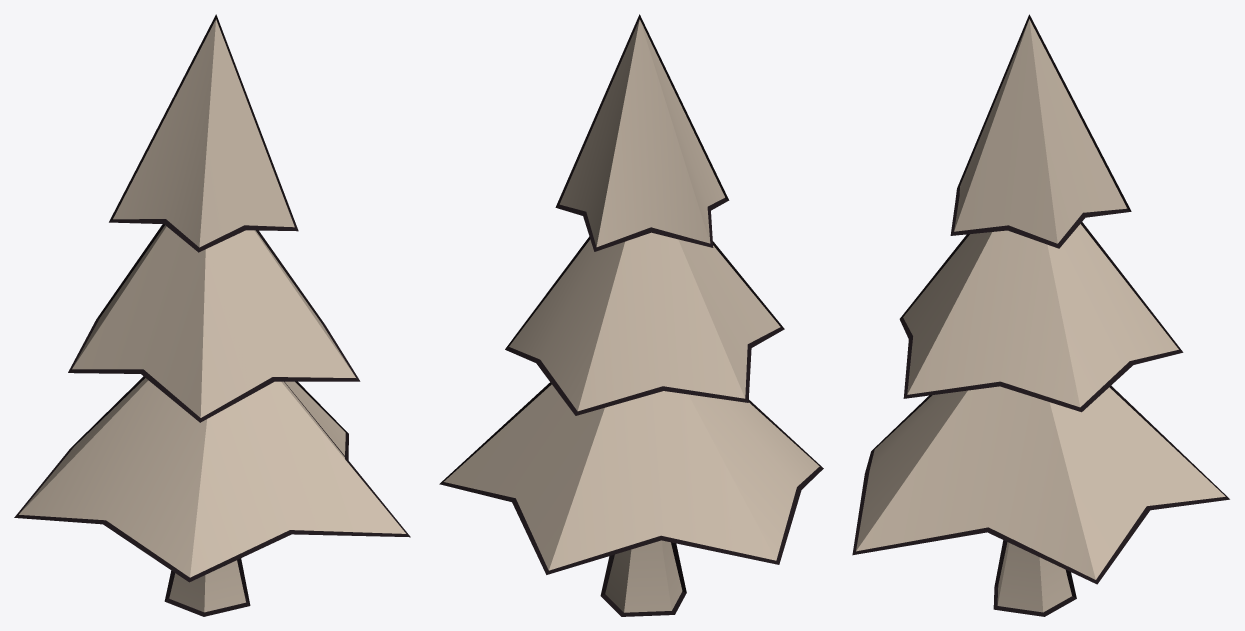
File: SM_Tree_02.fbx
The picture shows the model from 3 angles, left to right: view 1: azimuth 30°, elevation 25°; view 2: azimuth 150°, elevation 25°; view 3: azimuth 270°, elevation 25°; orthographic projection.
Parts seen in each view (by area): view 1: SM_Tree_02; view 2: SM_Tree_02; view 3: SM_Tree_02.
Boxes of the visible parts, x1=… form: SM_Tree_02: x1=14, y1=14, x2=410, y2=616; SM_Tree_02: x1=439, y1=14, x2=823, y2=616; SM_Tree_02: x1=852, y1=14, x2=1229, y2=616.
Bounding box in the file's own units: 2.48 × 4.1 × 2.39.
